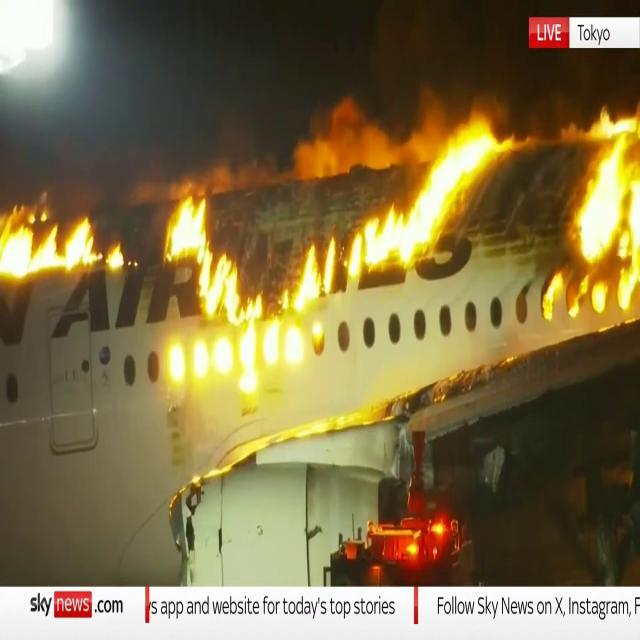Fire: (163, 187, 333, 394), (353, 104, 512, 274), (546, 87, 640, 320), (0, 202, 120, 282), (374, 505, 456, 565)
